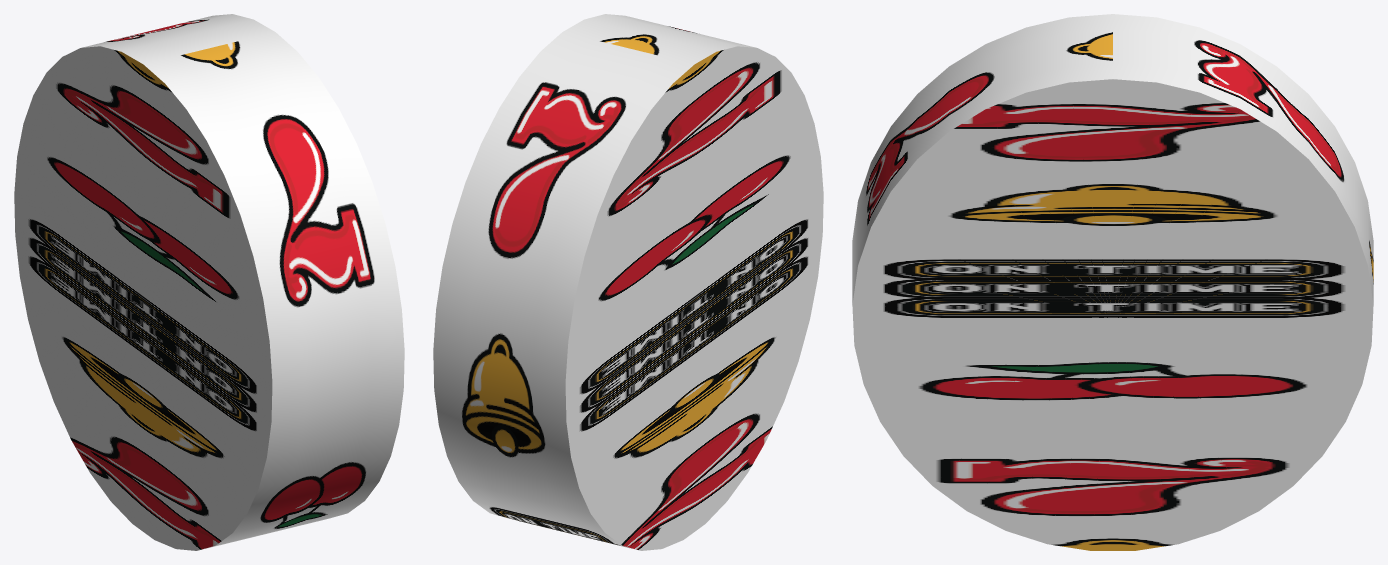
3 renders of one model, left to right at view 1: azimuth 30°, elevation 25°; view 2: azimuth 150°, elevation 25°; view 3: azimuth 270°, elevation 25°, orthographic.
Visible parts, largest first — view 1: 돌2; view 2: 돌2; view 3: 돌2.
Boxes of the visible parts, <box> form: 돌2: <box>14,14,404,550</box>; 돌2: <box>433,14,823,550</box>; 돌2: <box>852,14,1373,550</box>.
Bounding box in the file's own units: 0.3661 × 1.24 × 1.24.
1 material, 1 textured.
